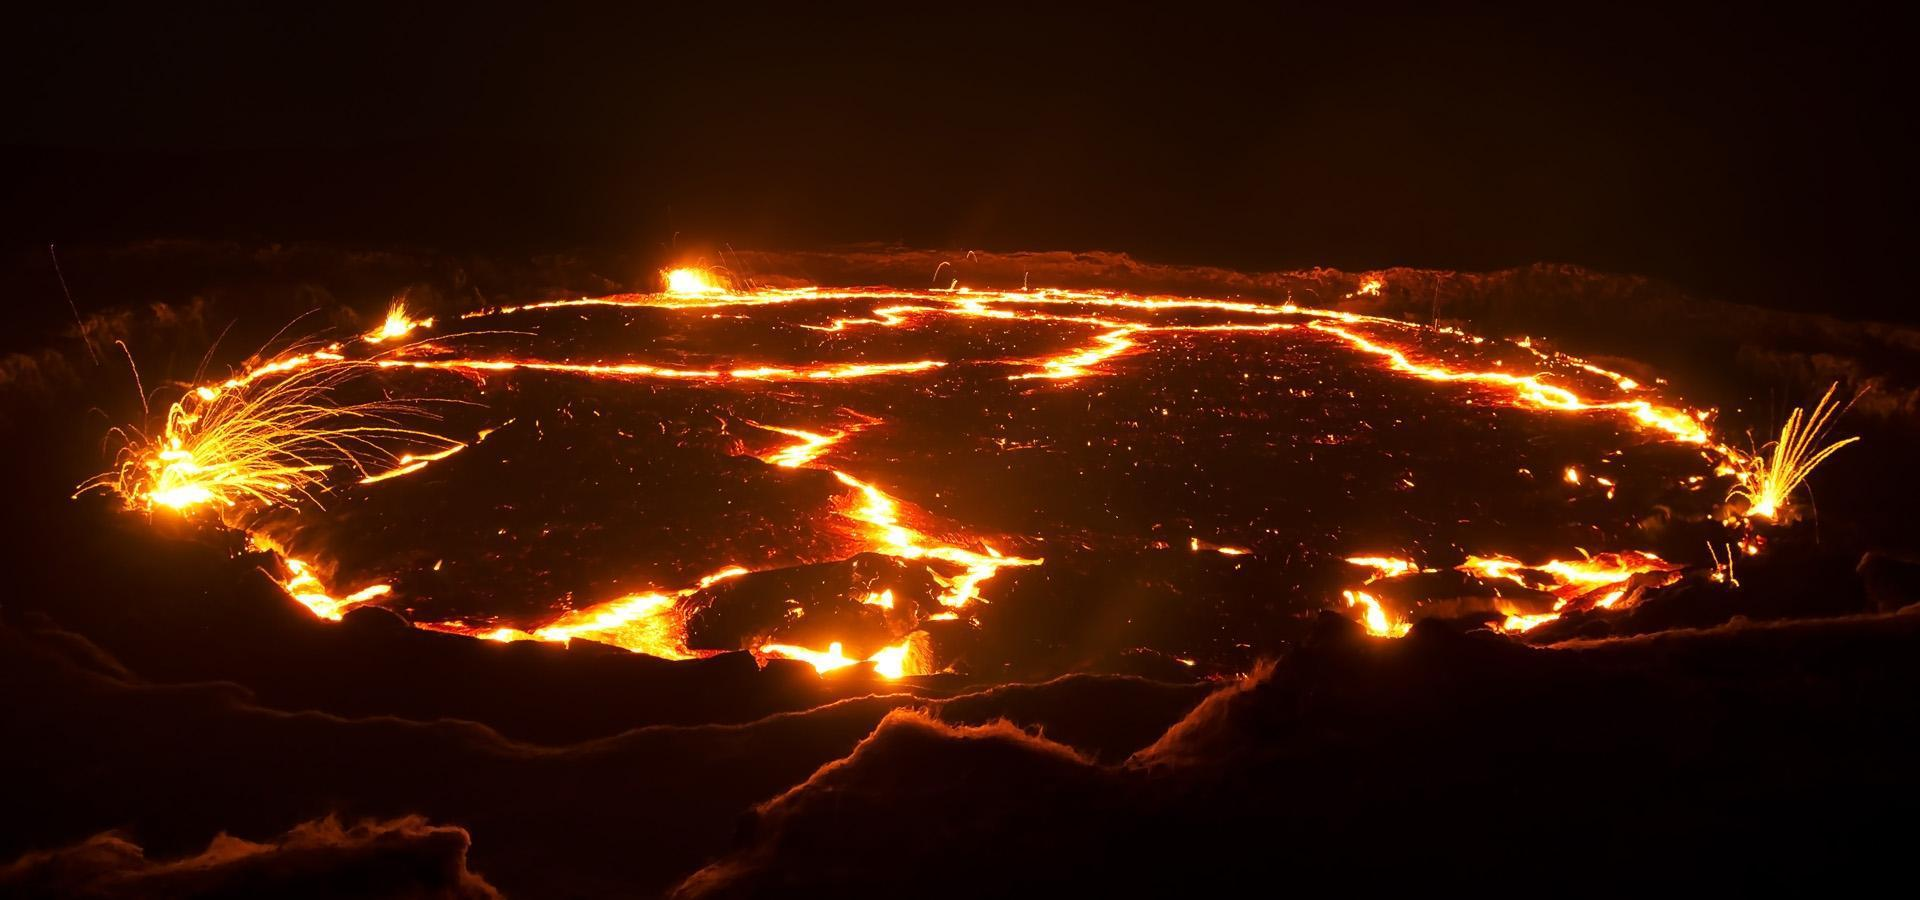fire: (66, 181, 1870, 724)
